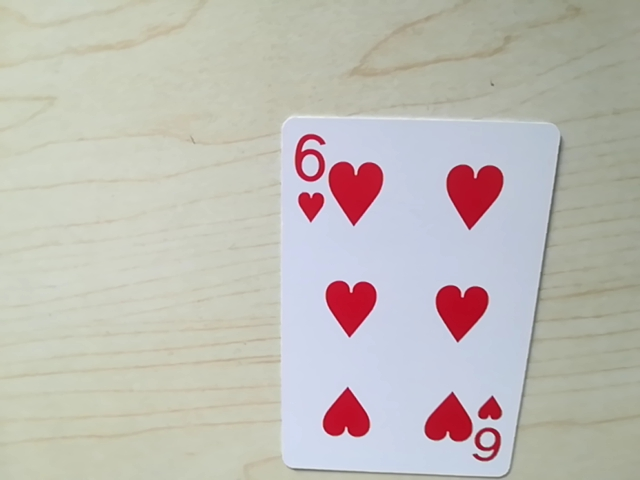hx 6: (288, 127, 334, 196), (464, 409, 507, 469)
